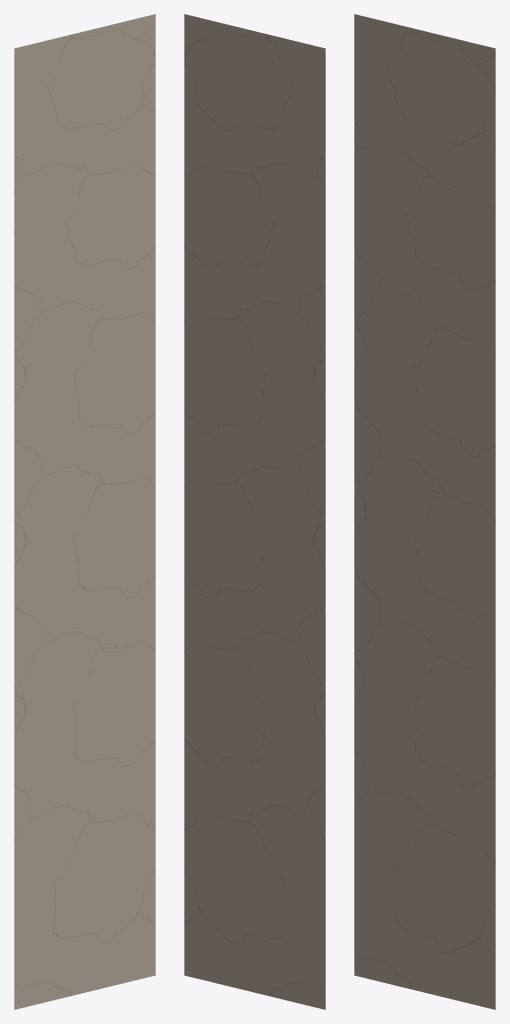
The model's file is kd_stage_135c43_4_159_bounded_piece_0.glb.
The picture shows the model from 3 angles, left to right: view 1: azimuth 30°, elevation 25°; view 2: azimuth 150°, elevation 25°; view 3: azimuth 330°, elevation 25°; orthographic projection.
Parts seen in each view (by area): view 1: kd_stage_135c43_4_159_bounded_piece_0; view 2: kd_stage_135c43_4_159_bounded_piece_0; view 3: kd_stage_135c43_4_159_bounded_piece_0.
Boxes of the visible parts, <box> form: kd_stage_135c43_4_159_bounded_piece_0: <box>14,14,155,1009</box>; kd_stage_135c43_4_159_bounded_piece_0: <box>184,14,325,1009</box>; kd_stage_135c43_4_159_bounded_piece_0: <box>354,14,495,1009</box>.
Size of the model in its own units: 0.3504 by 2.28 by 2.62e-06.
1 material, 1 textured.
